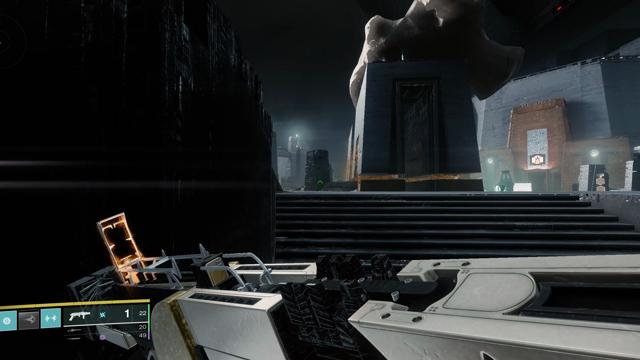worship: (532, 155, 543, 164)
